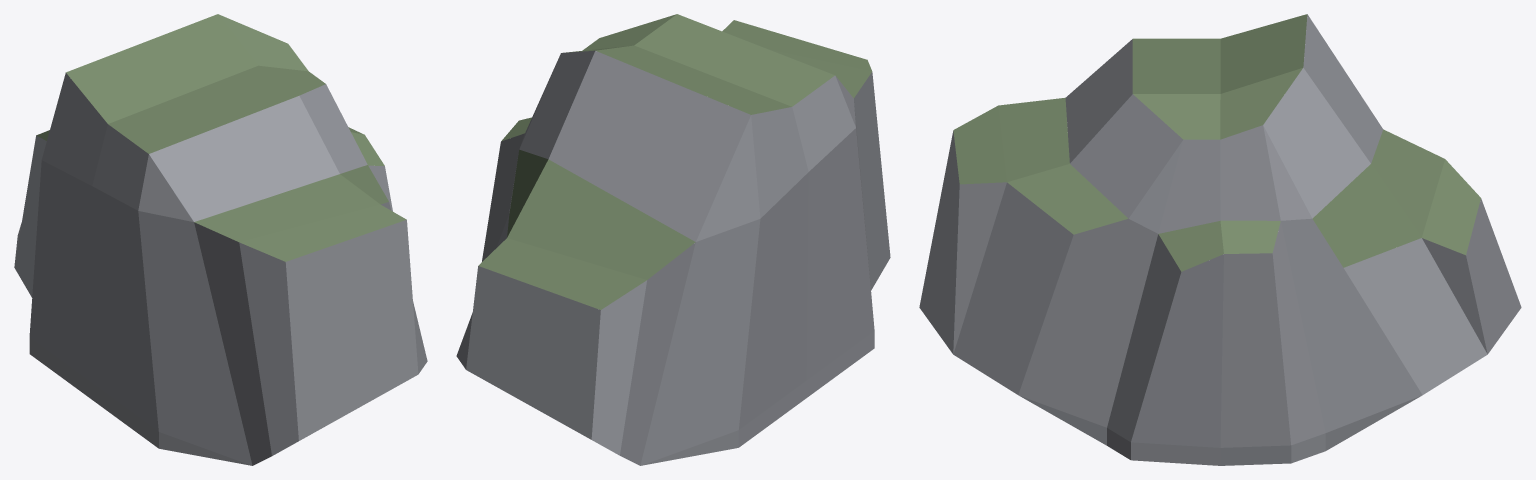
3 views of the same model, side by side, from view 1: azimuth 30°, elevation 25°; view 2: azimuth 150°, elevation 25°; view 3: azimuth 270°, elevation 25° (orthographic). The views are drawn at different scales.
Parts seen in each view (by area): view 1: Visual; view 2: Visual; view 3: Visual.
Part boxes in pixels (box(x1,y1,x2,y2)): Visual: box(14, 14, 427, 465); Visual: box(456, 14, 890, 465); Visual: box(919, 14, 1521, 465).
Size of the model in its own units: 1.78 by 1.88 by 3.
